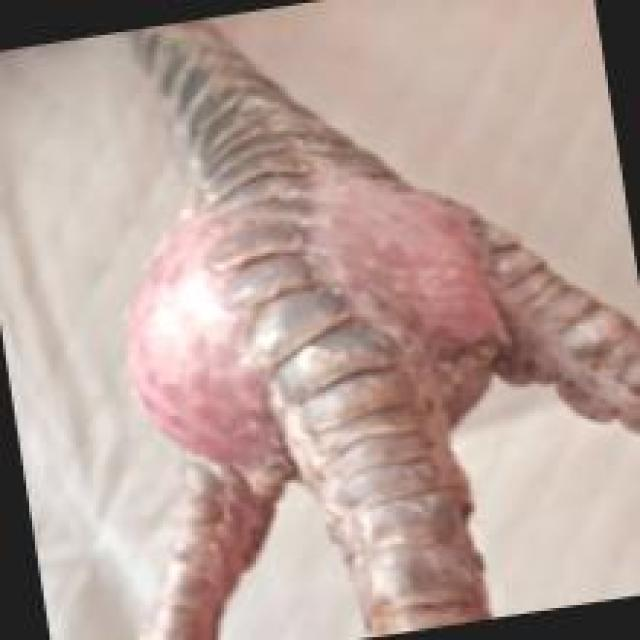Bumble foot: (116, 121, 527, 530)
